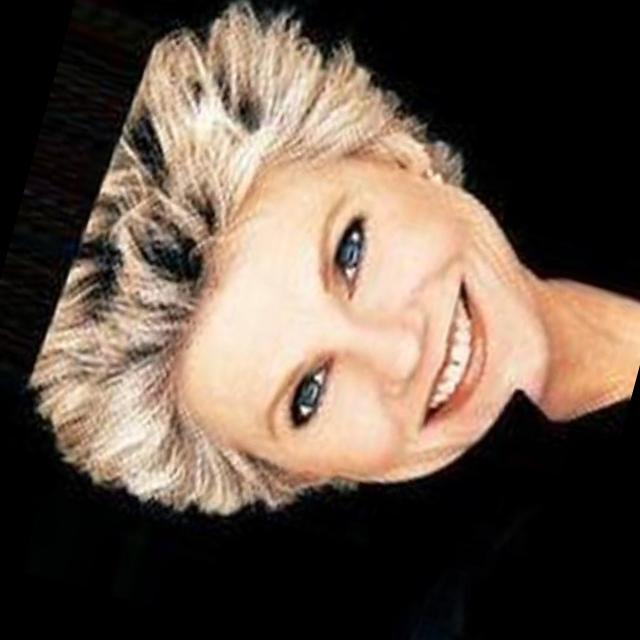bareface: (20, 0, 610, 558)
